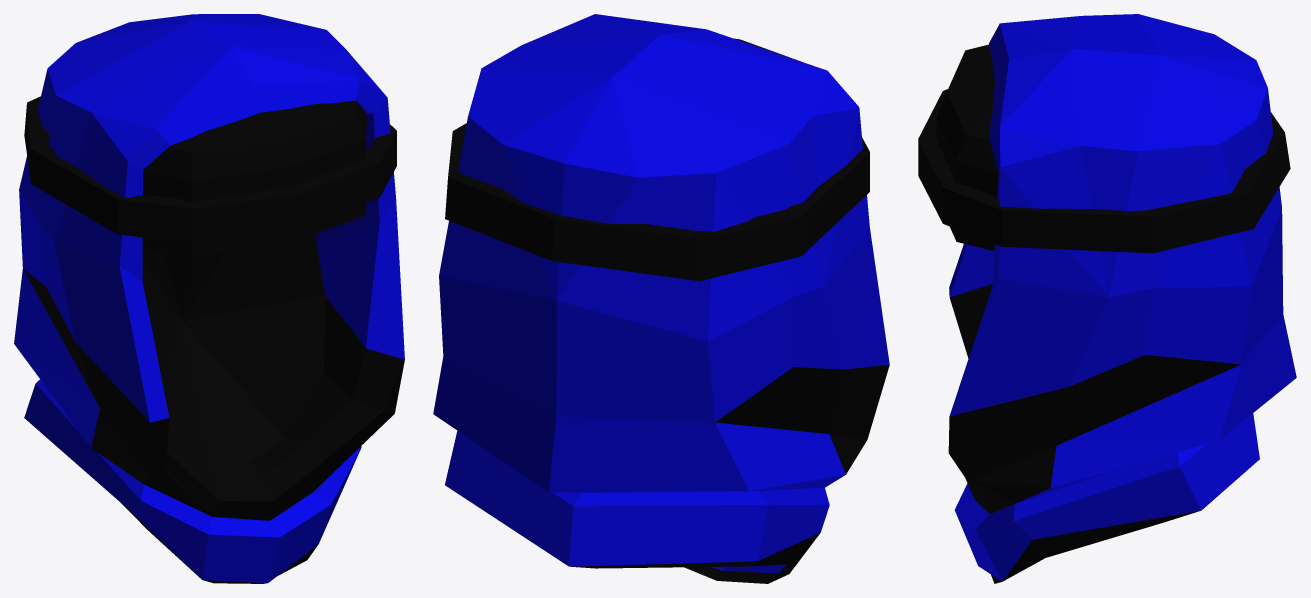
The model's file is Chr_HeadCoverings_NoHair_Static_01.fbx.
The picture shows the model from 3 angles, left to right: view 1: azimuth 30°, elevation 25°; view 2: azimuth 150°, elevation 25°; view 3: azimuth 270°, elevation 25°; orthographic projection. The views are drawn at different scales.
Visible parts, largest first — view 1: Chr_HeadCoverings_No_Hair_01; view 2: Chr_HeadCoverings_No_Hair_01; view 3: Chr_HeadCoverings_No_Hair_01.
Boxes of the visible parts, x1,y1,x2,y2 form: Chr_HeadCoverings_No_Hair_01: (14,14,404,583); Chr_HeadCoverings_No_Hair_01: (433,14,889,583); Chr_HeadCoverings_No_Hair_01: (918,14,1296,583).
Bounding box in the file's own units: 30.04 × 47.44 × 30.89.
